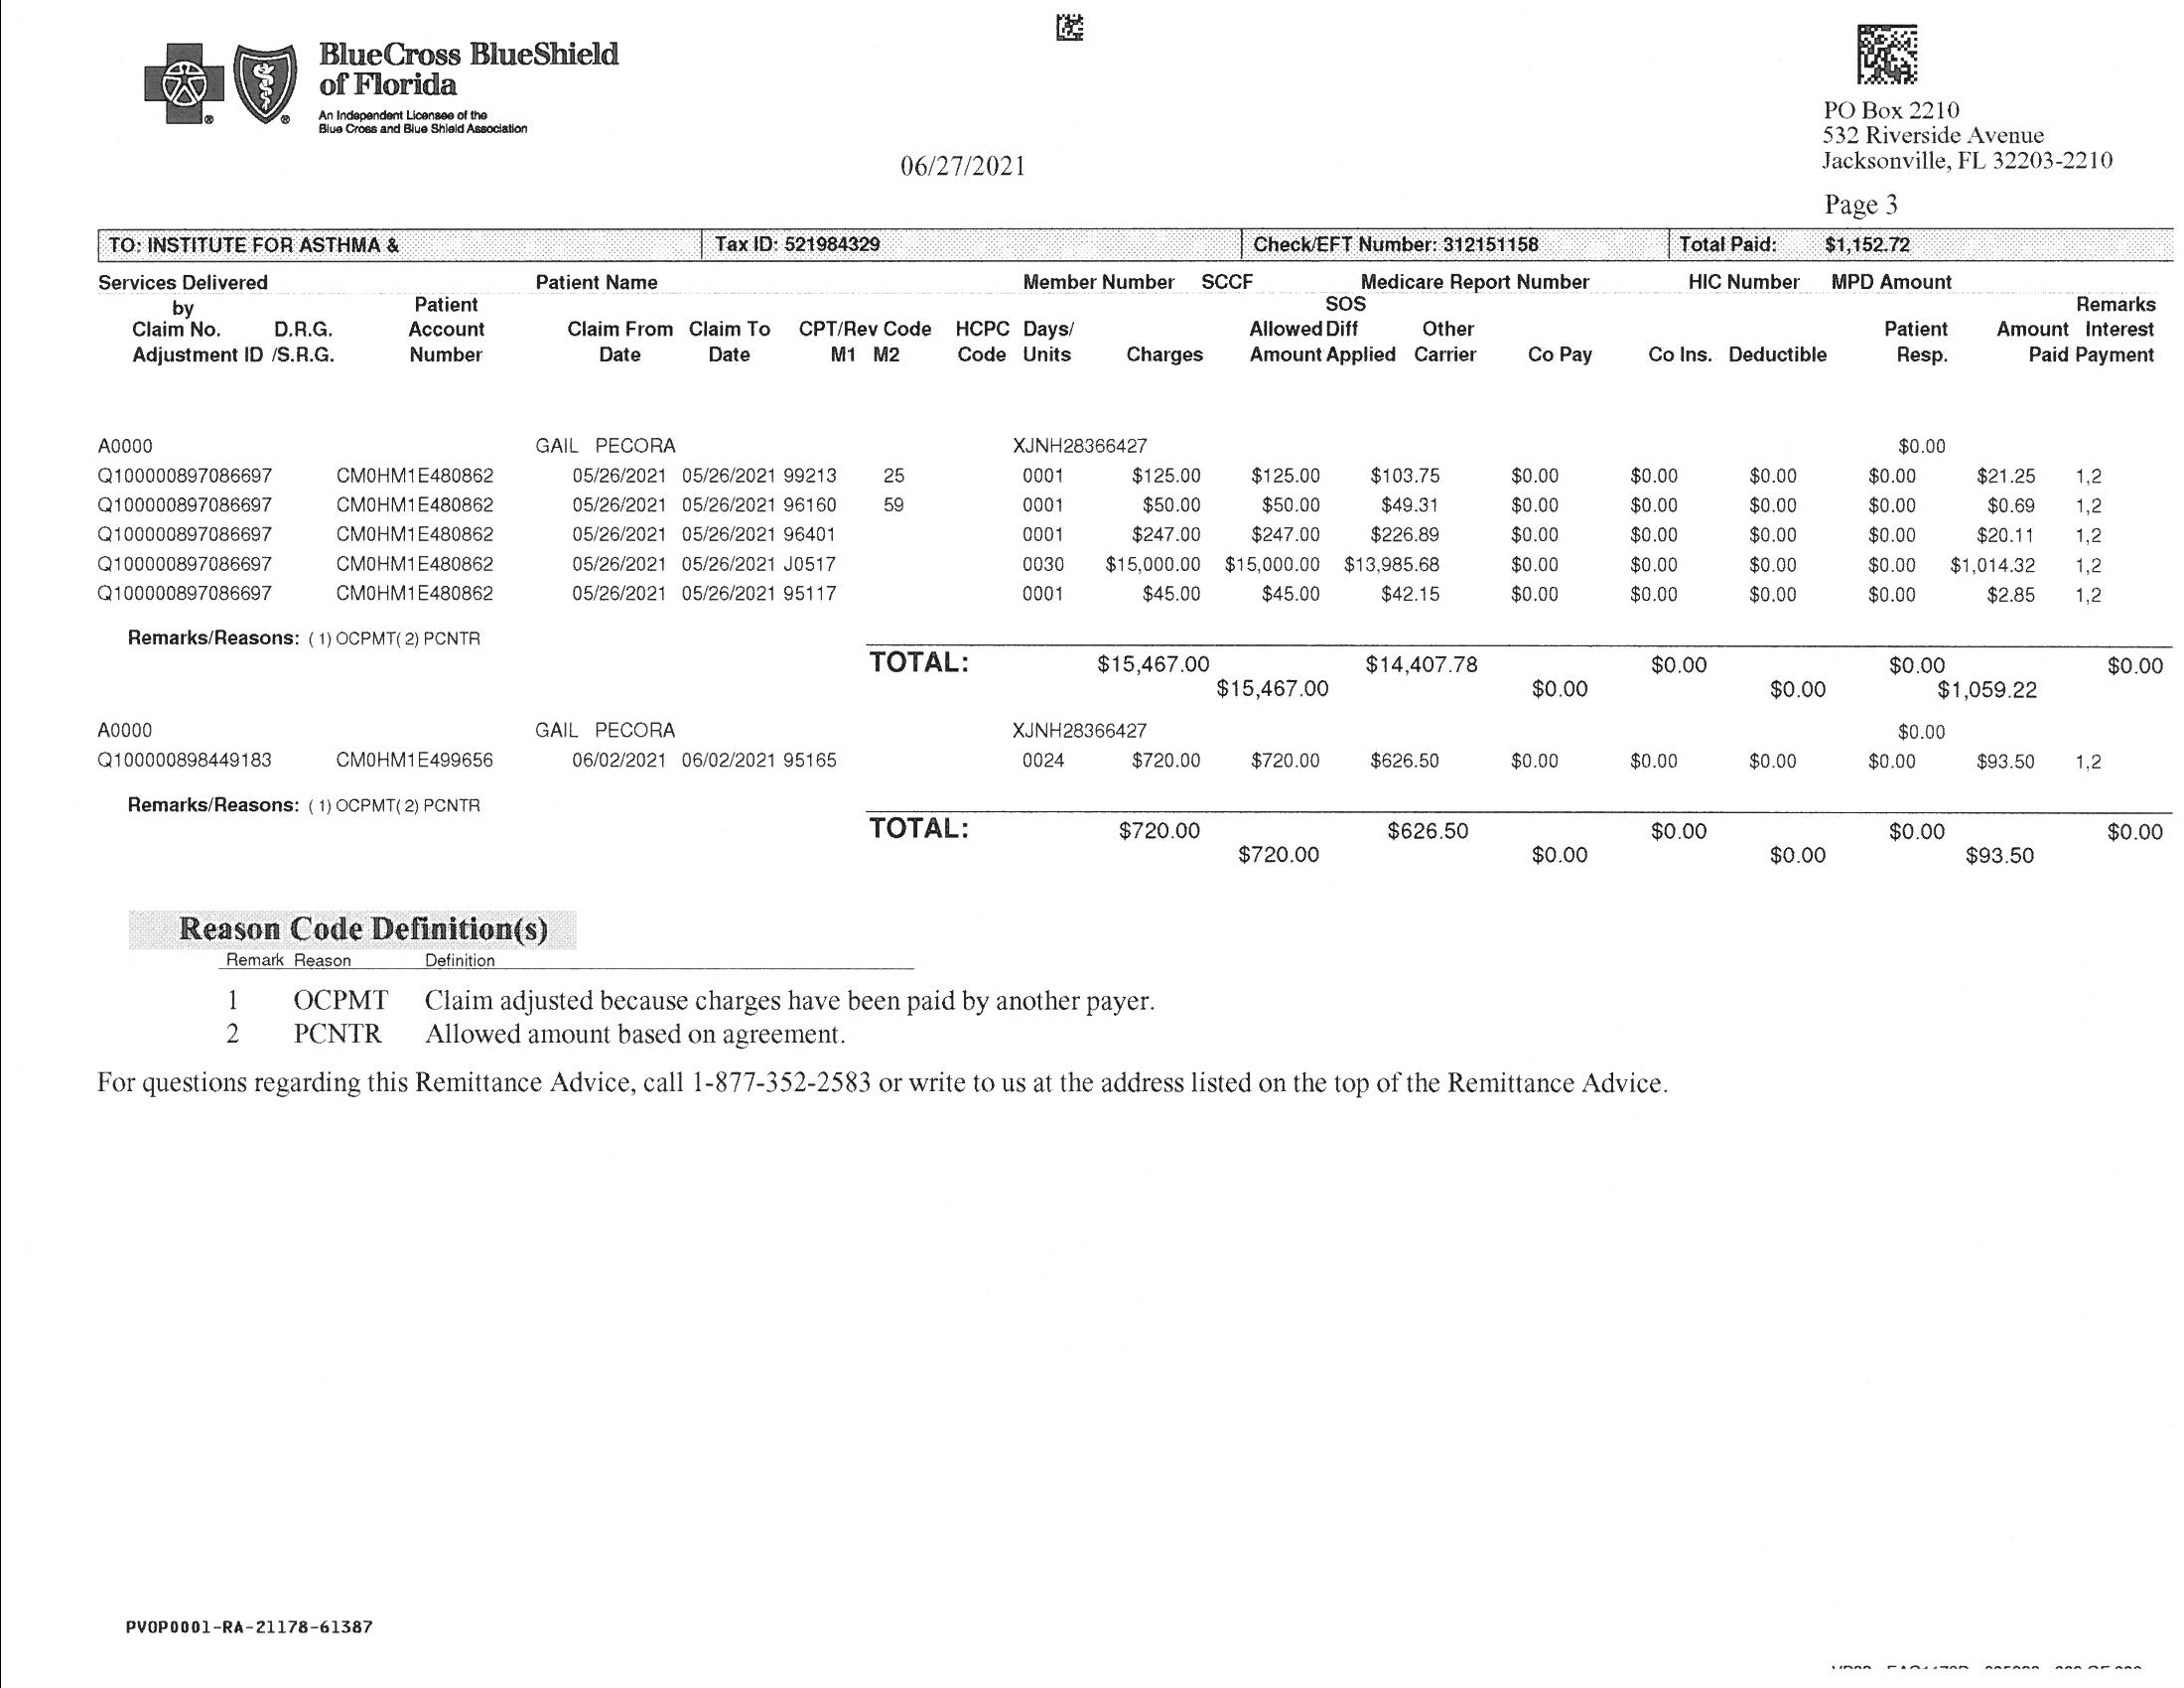table: (87, 213, 2168, 894)
